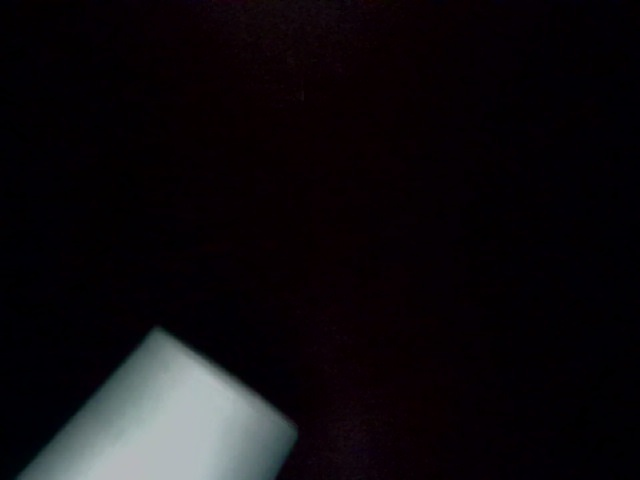KHSLJ: (1, 106, 524, 414)
